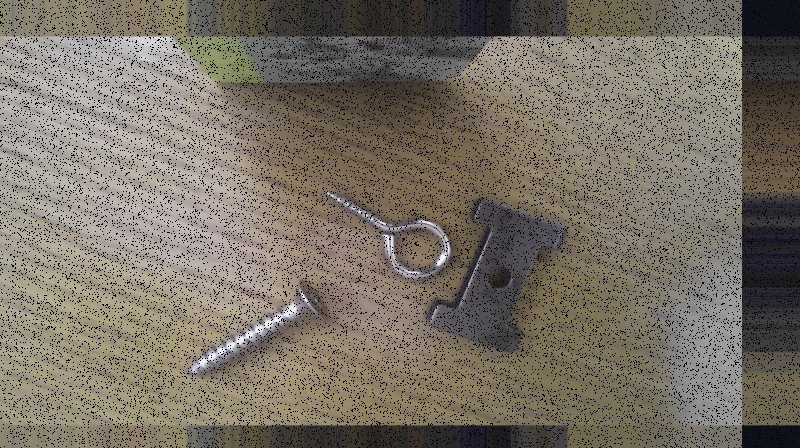O001: (322, 187, 453, 281)
O002: (425, 195, 569, 355)
S001: (179, 276, 330, 379)
